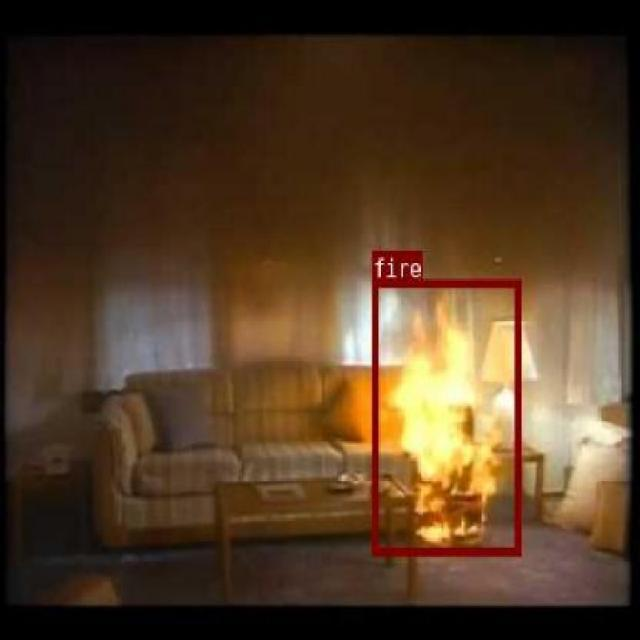Fire: (372, 280, 520, 554)
